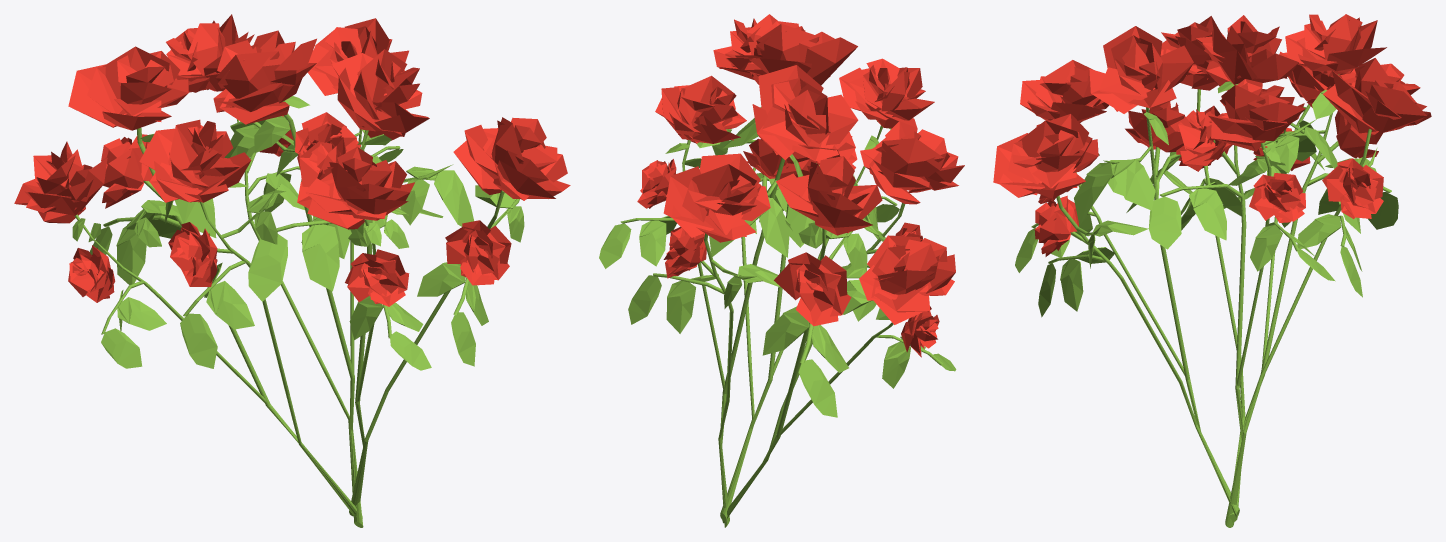
File: Flowers.glb
3 renders of one model, left to right at view 1: azimuth 30°, elevation 25°; view 2: azimuth 150°, elevation 25°; view 3: azimuth 270°, elevation 25°, orthographic. The views are drawn at different scales.
Size of the model in its own units: 2.46 by 3.04 by 2.54.
